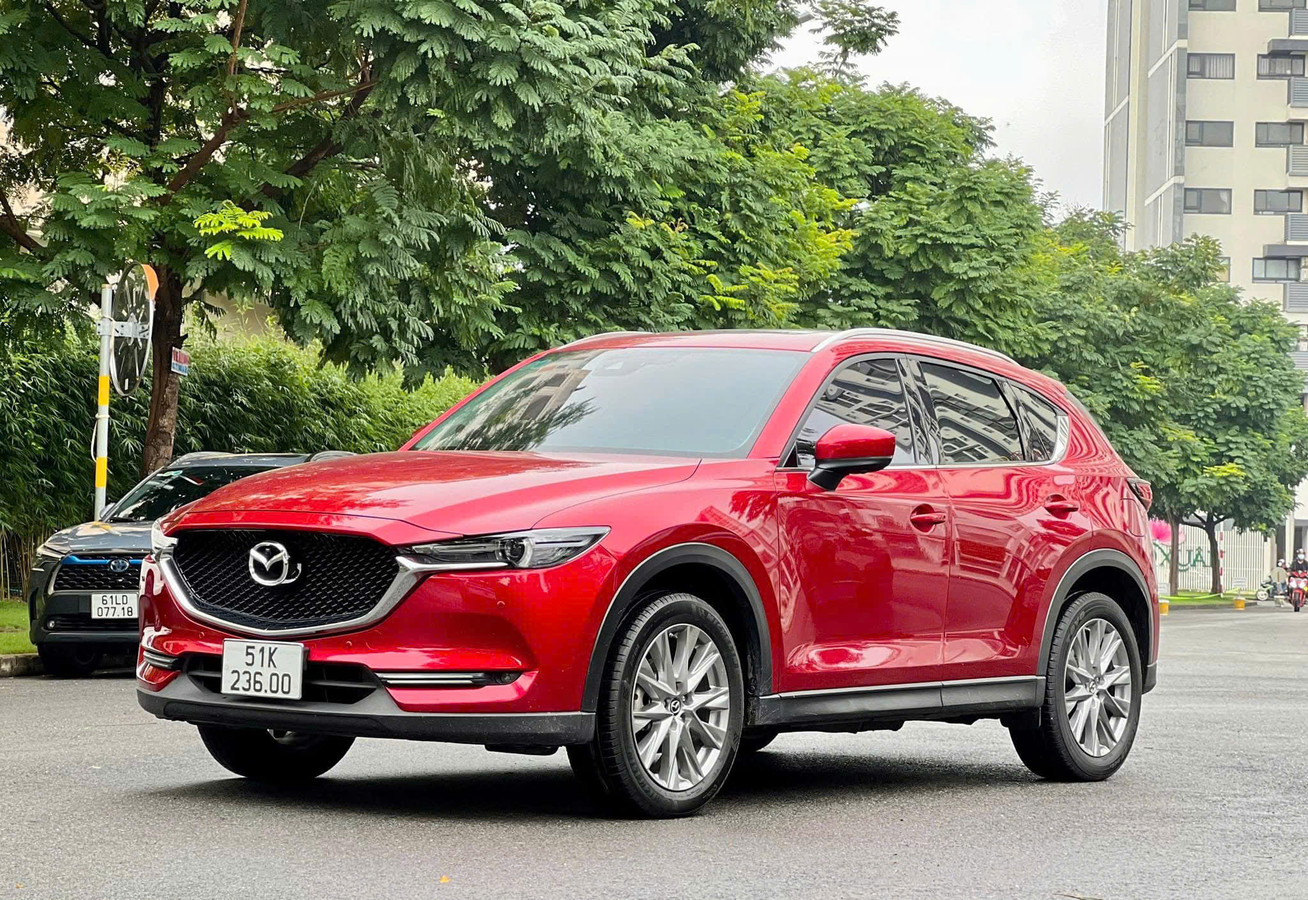Bien-so: (220, 640, 302, 702), (86, 596, 133, 624)
